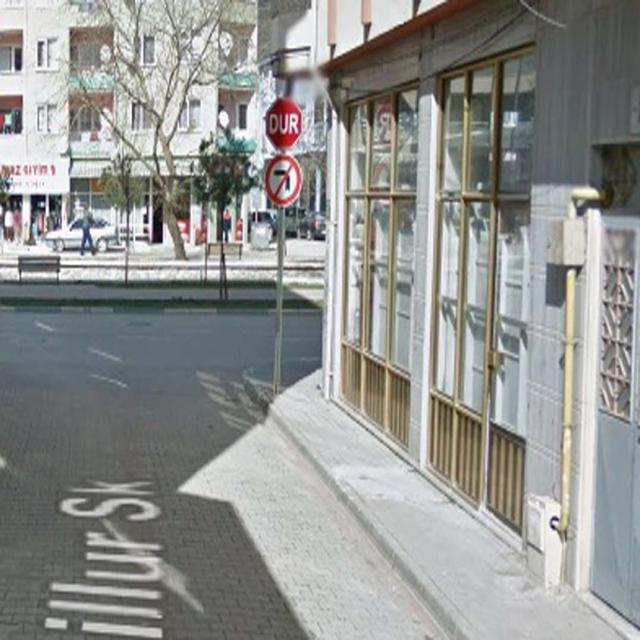dur: (264, 97, 302, 151)
soladonulmez: (264, 154, 302, 203)
